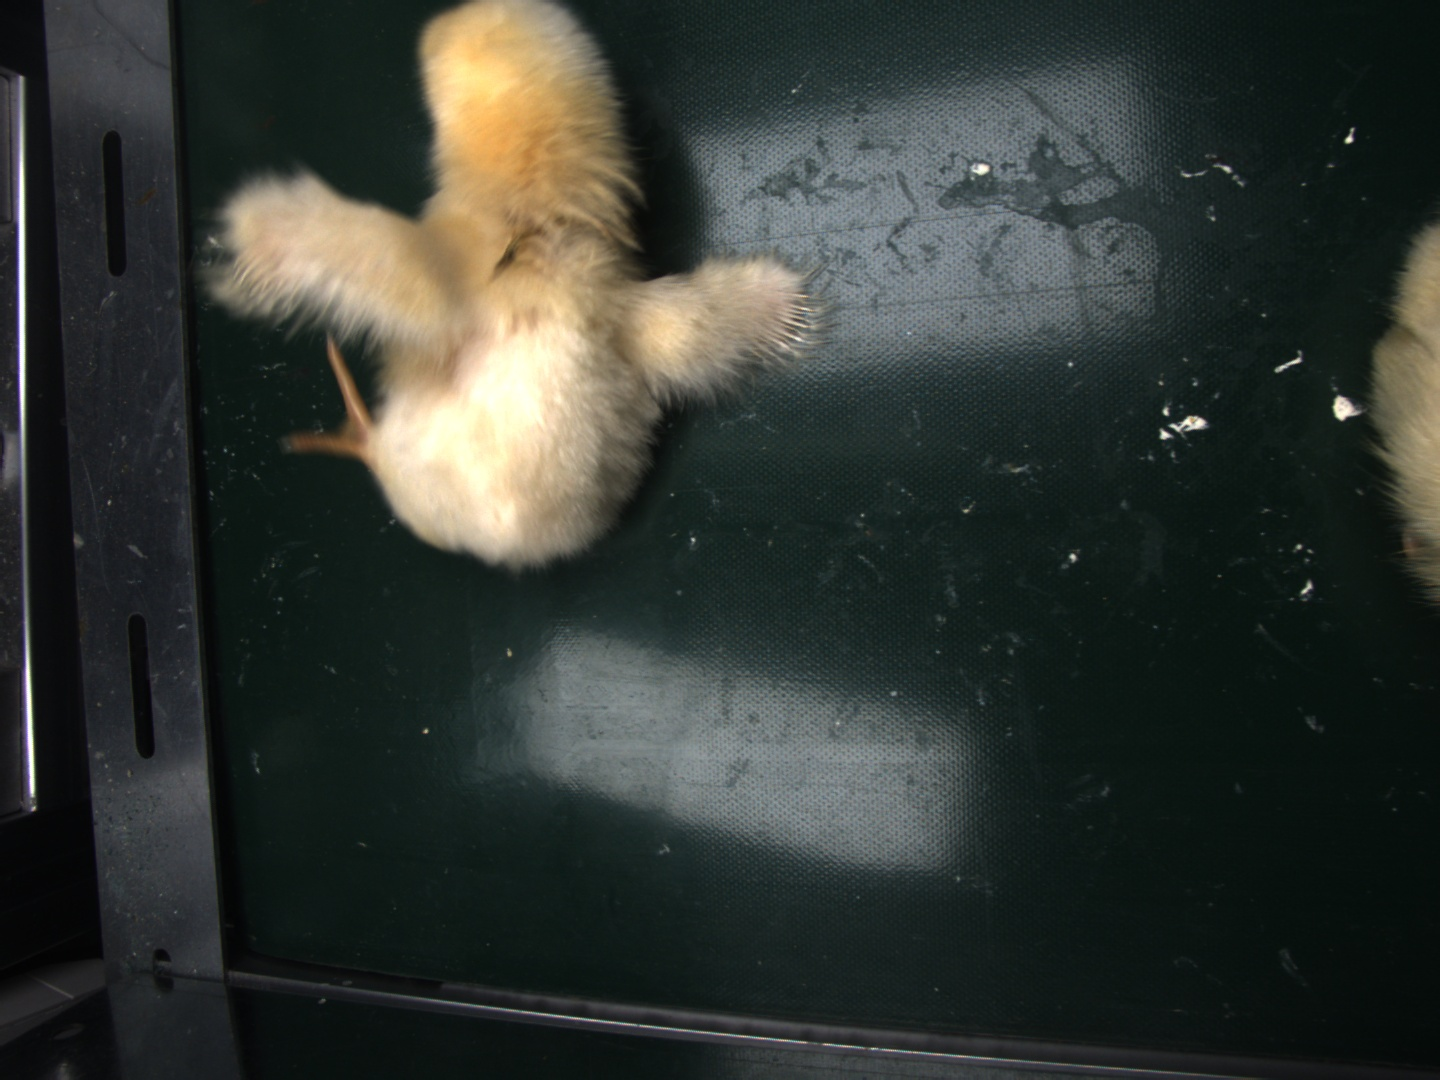male: (760, 288, 812, 362)
